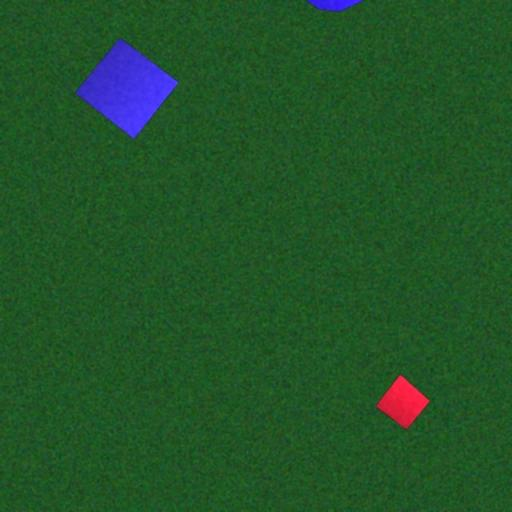BLUE_SQUARE: (74, 37, 180, 140)
RED_SQUARE: (374, 374, 432, 430)
